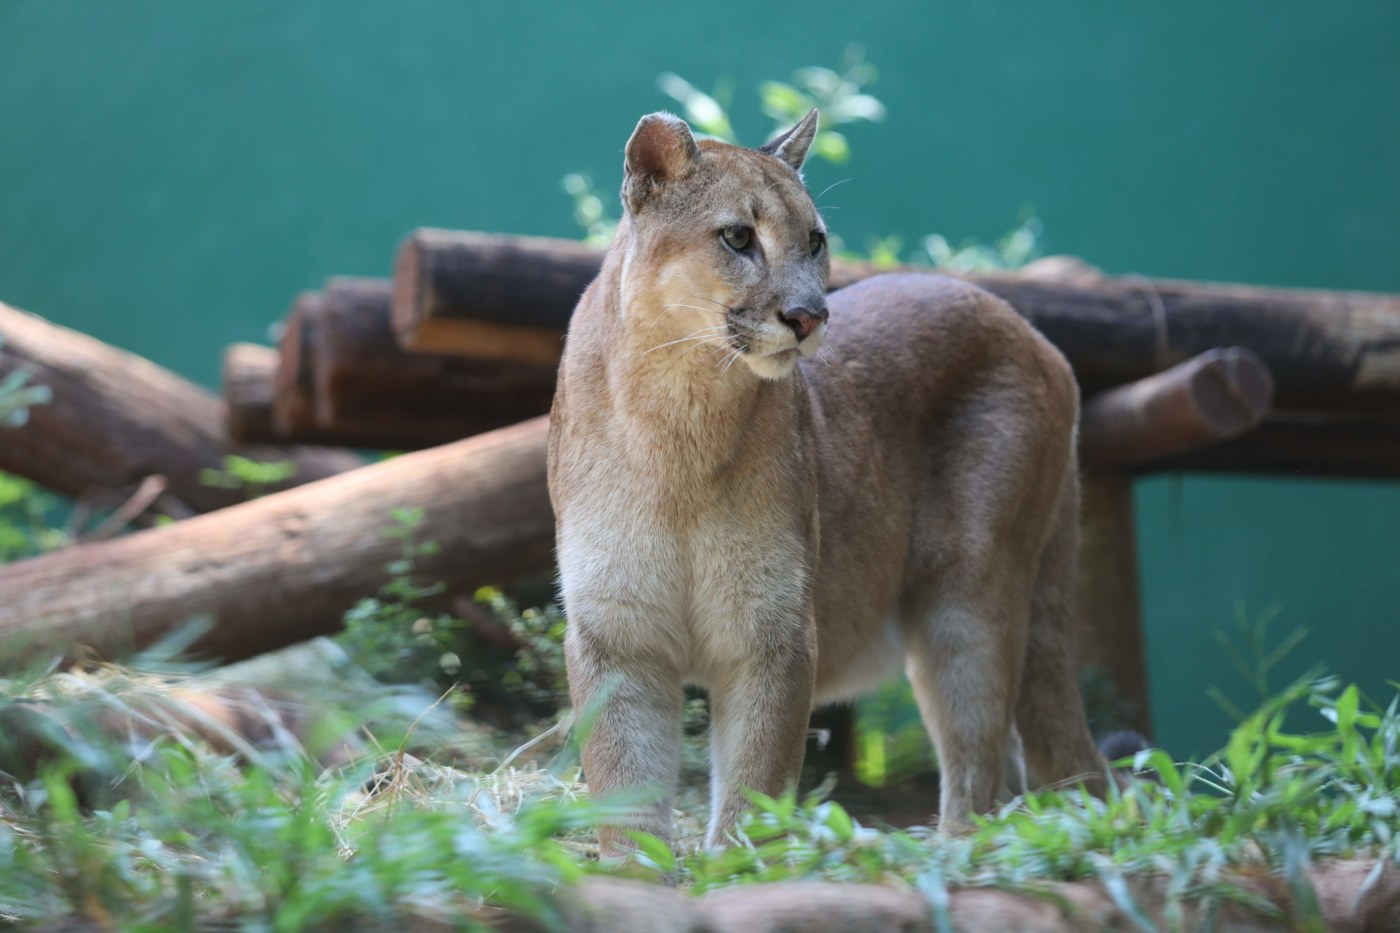OncaParda: (534, 99, 1105, 858)
